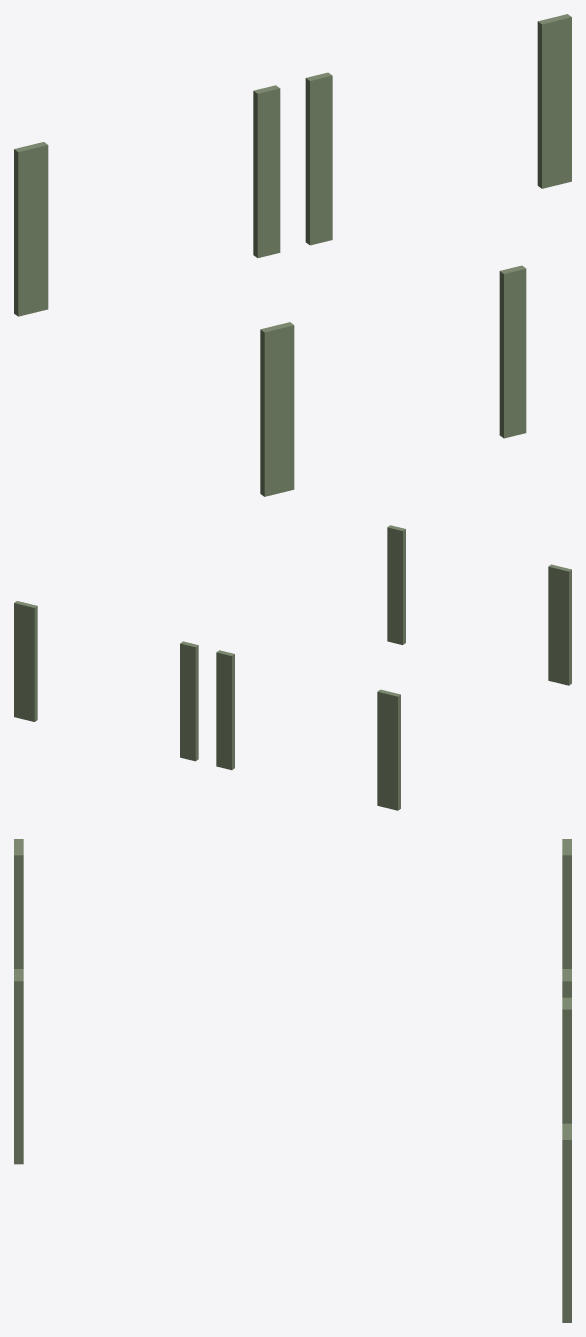
The model's file is camper_van_curtains.glb.
The picture shows the model from 3 angles, top to bottom: view 1: azimuth 30°, elevation 25°; view 2: azimuth 150°, elevation 25°; view 3: azimuth 270°, elevation 25°; orthographic projection. The views are drawn at different scales.
Visible parts, largest first — view 1: body:compound; view 2: body:compound; view 3: body:compound.
Boxes of the visible parts, x1,y1,x2,y2 form: body:compound: (14, 14, 571, 496); body:compound: (14, 525, 571, 810); body:compound: (14, 839, 571, 1322).
Bounding box in the file's own units: 2.31 × 0.6562 × 1.81.
